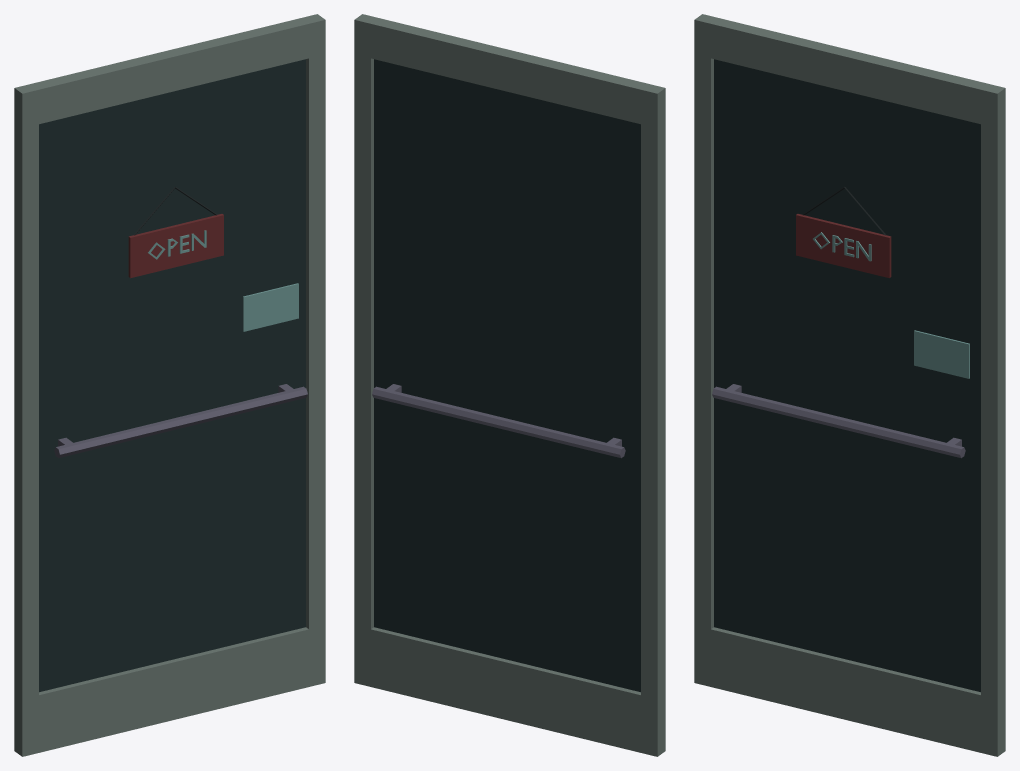
The model's file is usa_spalatorie.glb.
3 renders of one model, left to right at view 1: azimuth 30°, elevation 25°; view 2: azimuth 150°, elevation 25°; view 3: azimuth 330°, elevation 25°, orthographic.
Parts seen in each view (by area): view 1: GeamUsa, Usa; view 2: GeamUsa, Usa; view 3: GeamUsa, Usa.
Boxes of the visible parts, x1,y1,x2,y2 form: GeamUsa: (39,59,305,692); Usa: (14,14,325,756); GeamUsa: (374,59,640,692); Usa: (354,14,665,756); GeamUsa: (714,59,980,692); Usa: (694,14,1005,756).
Size of the model in its own units: 1.1 by 2.3 by 0.176.
